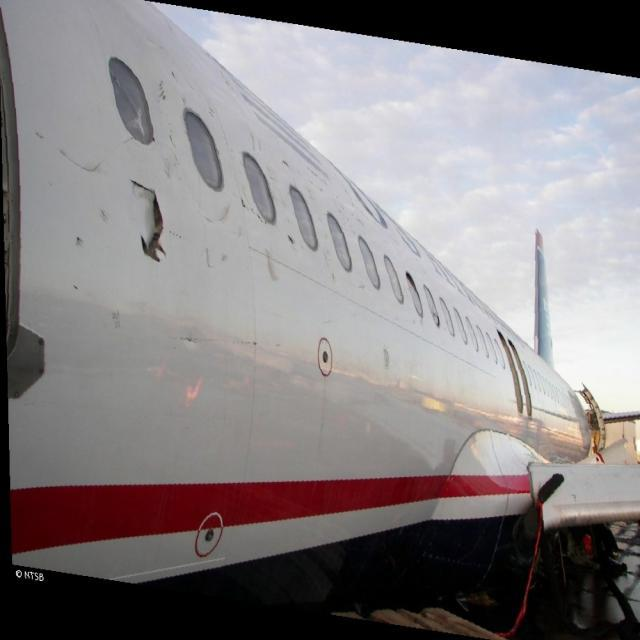crack: (127, 179, 169, 267)
